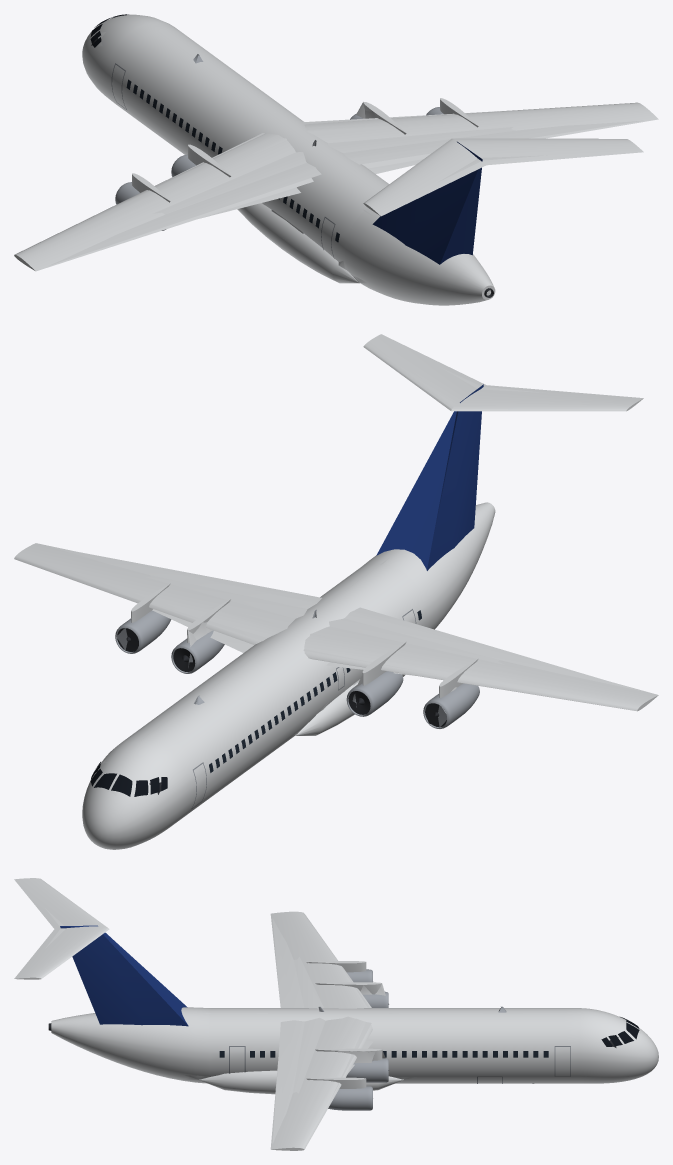
File: lat_quad_regional.dae
The picture shows the model from 3 angles, top to bottom: view 1: azimuth 30°, elevation 25°; view 2: azimuth 150°, elevation 25°; view 3: azimuth 270°, elevation 25°; orthographic projection. The views are drawn at different scales.
Parts seen in each view (by area): view 1: lat_quad_regional150, lat_quad_regional32, lat_quad_regional1; view 2: lat_quad_regional150, lat_quad_regional32, lat_quad_regional1; view 3: lat_quad_regional150, lat_quad_regional32, lat_quad_regional1.
Part boxes in pixels (box(x1,y1,x2,y2)): lat_quad_regional150: box(14, 14, 658, 305); lat_quad_regional32: box(49, 19, 643, 295); lat_quad_regional1: box(200, 141, 547, 264); lat_quad_regional150: box(14, 334, 658, 849); lat_quad_regional32: box(48, 546, 642, 802); lat_quad_regional1: box(123, 366, 548, 726); lat_quad_regional150: box(14, 878, 658, 1150); lat_quad_regional32: box(131, 918, 640, 1149); lat_quad_regional1: box(45, 908, 373, 1079).
Size of the model in its own units: 26.3 by 30.36 by 8.19.
